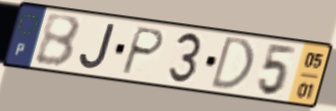3: (164, 30, 205, 87)
5: (257, 41, 299, 97)
B: (32, 13, 83, 69)
D: (207, 34, 256, 91)
J: (77, 22, 118, 72)
P: (118, 25, 167, 77)
